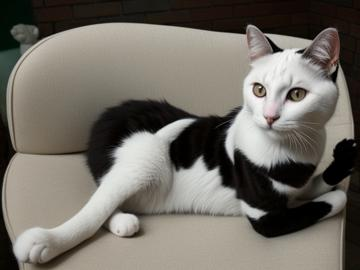cat: (4, 22, 357, 270)
